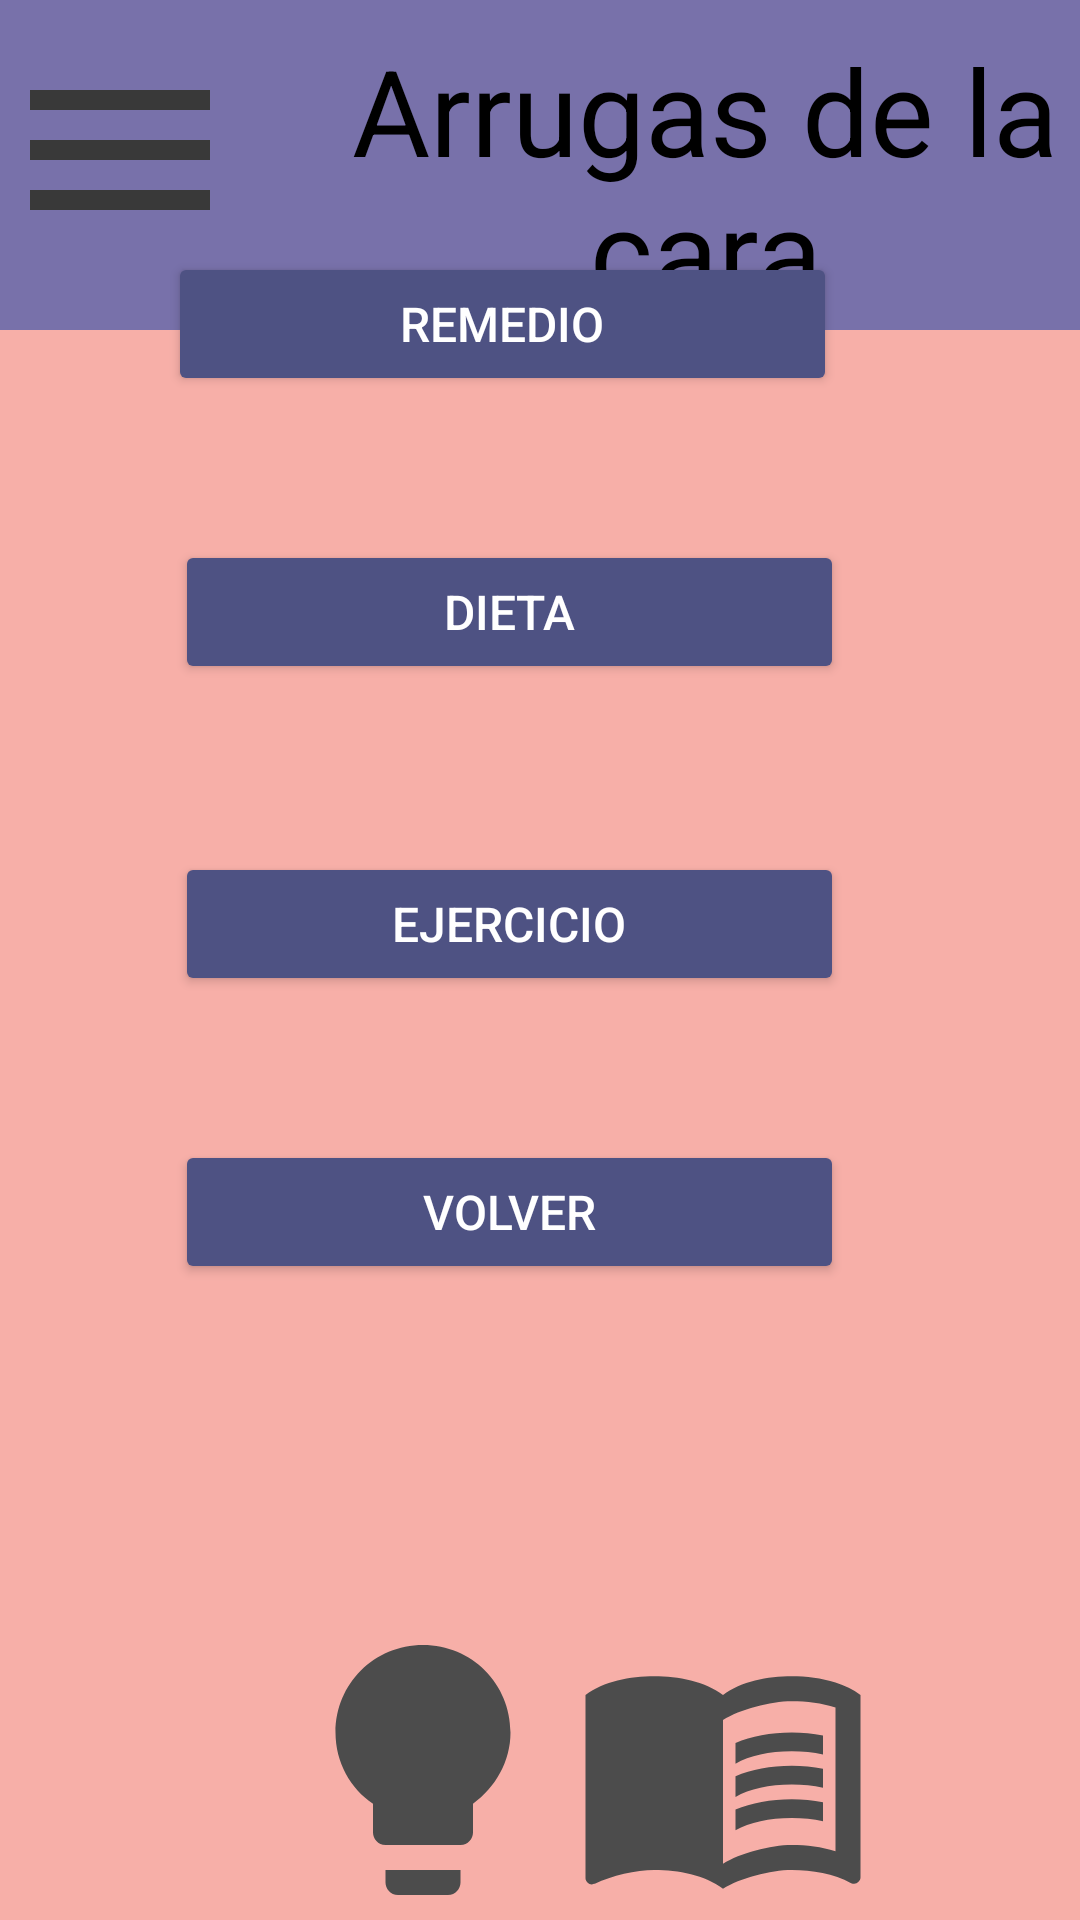

Screen size 1080*1920. Icon name, then its box in pixels as (x1, y1, x2, y2):
book: (585, 1676, 861, 1889)
menu: (30, 90, 210, 210)
